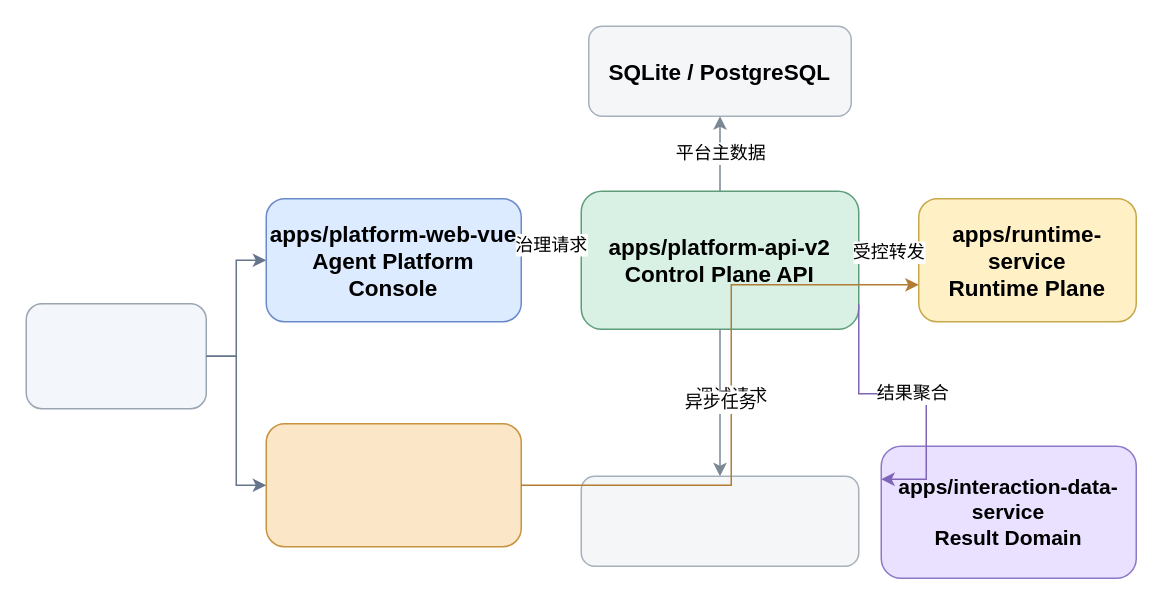
The diagram is 1163 pixels wide and 605 high, and some of its shapes have lost their labels. The box of each missing label's shape, as (x1, y1, x2, y2) in pixels:
apps/runtime-web Runtime 调试前端: (265, 422, 521, 547)
db_polling / Redis Queue: (580, 475, 859, 566)
用户 平台操作员: (25, 302, 206, 409)
